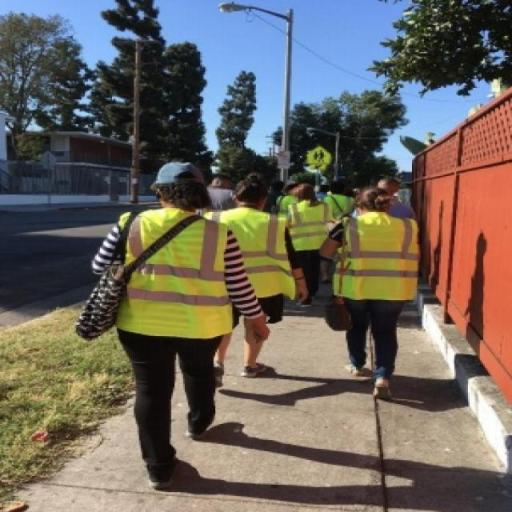Person: (93, 140, 279, 504), (312, 164, 448, 423), (190, 160, 302, 396), (270, 164, 372, 374)
vest: (114, 195, 246, 345), (202, 202, 305, 308), (330, 206, 432, 313), (279, 182, 336, 257), (321, 180, 365, 232)
